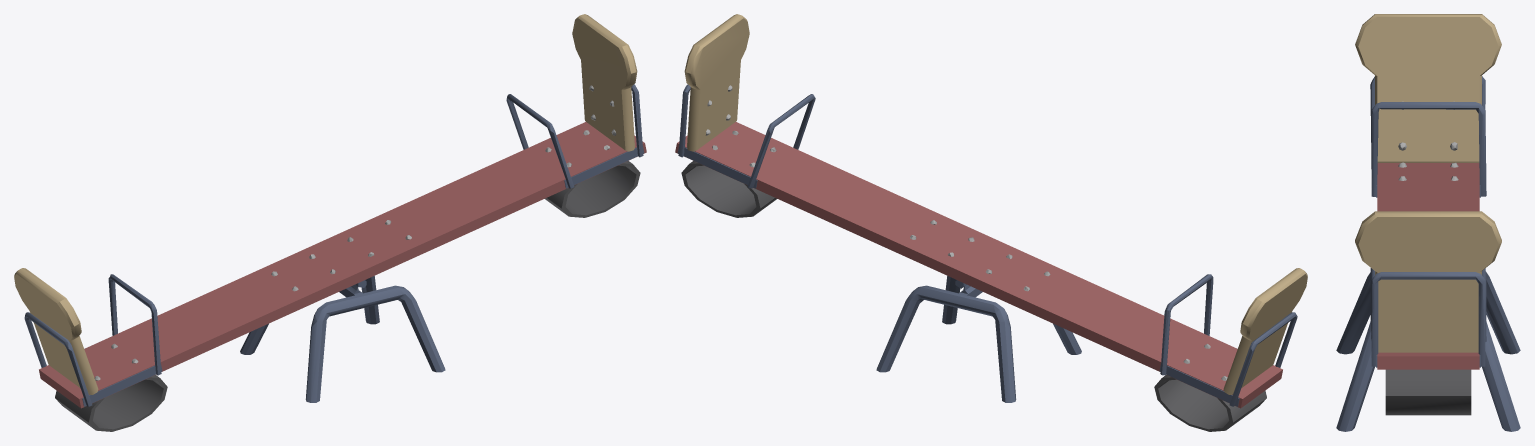
Rendered from play-seesaw.glb.
3 renders of one model, left to right at view 1: azimuth 30°, elevation 25°; view 2: azimuth 150°, elevation 25°; view 3: azimuth 270°, elevation 25°, orthographic. The views are drawn at different scales.
Visible parts, largest first — view 1: lod0; view 2: lod0; view 3: lod0.
Boxes of the visible parts, left/top/right/bottom form: lod0: left=14, top=14, right=646, bottom=431; lod0: left=675, top=14, right=1307, bottom=431; lod0: left=1336, top=14, right=1520, bottom=431.
Size of what is drawn, in the model's own units: 3.6 by 1.56 by 0.7717.
